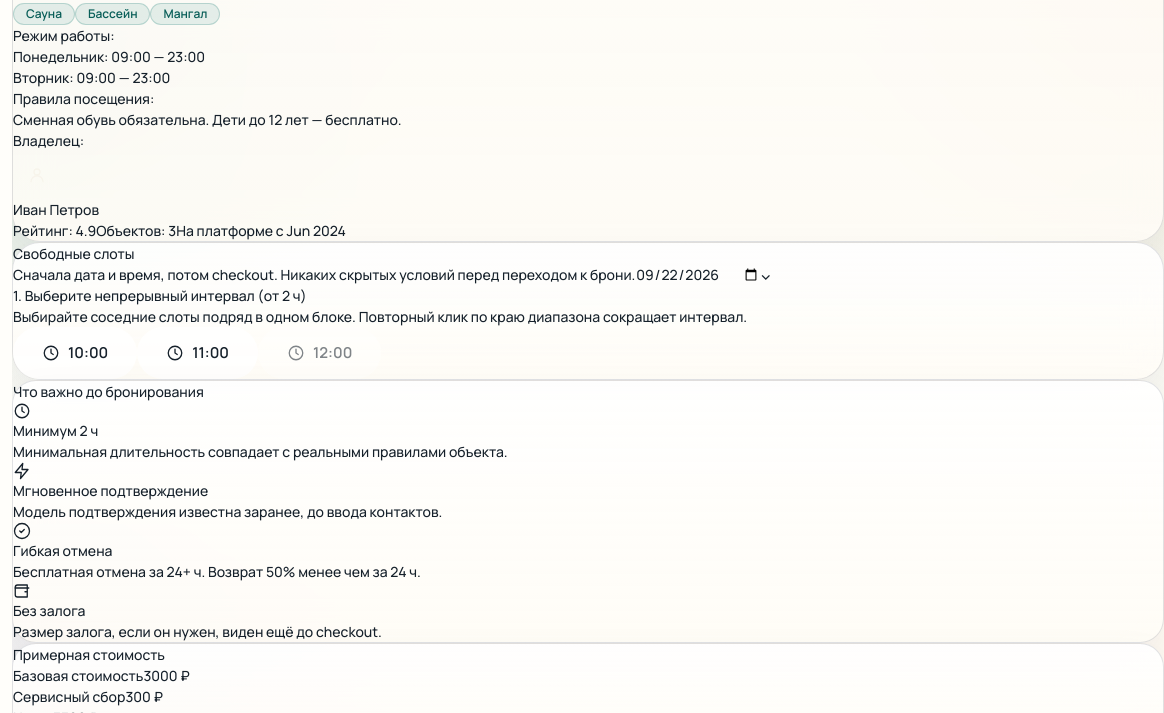
it: BathhouseDetail › selects a continuous range in one block without duration buttons
(page scrolled)
Click the button "10:00" at (75, 353), box [13,327,137,379]
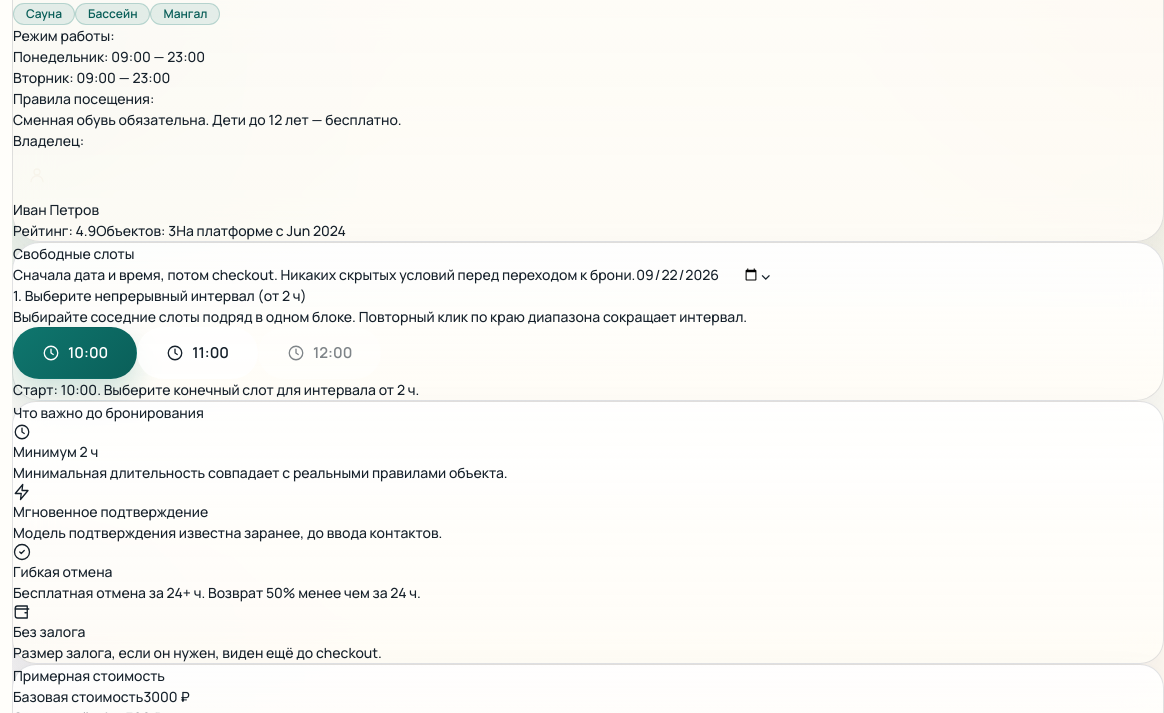
Click the button "11:00" at (198, 353), box [137,327,258,379]
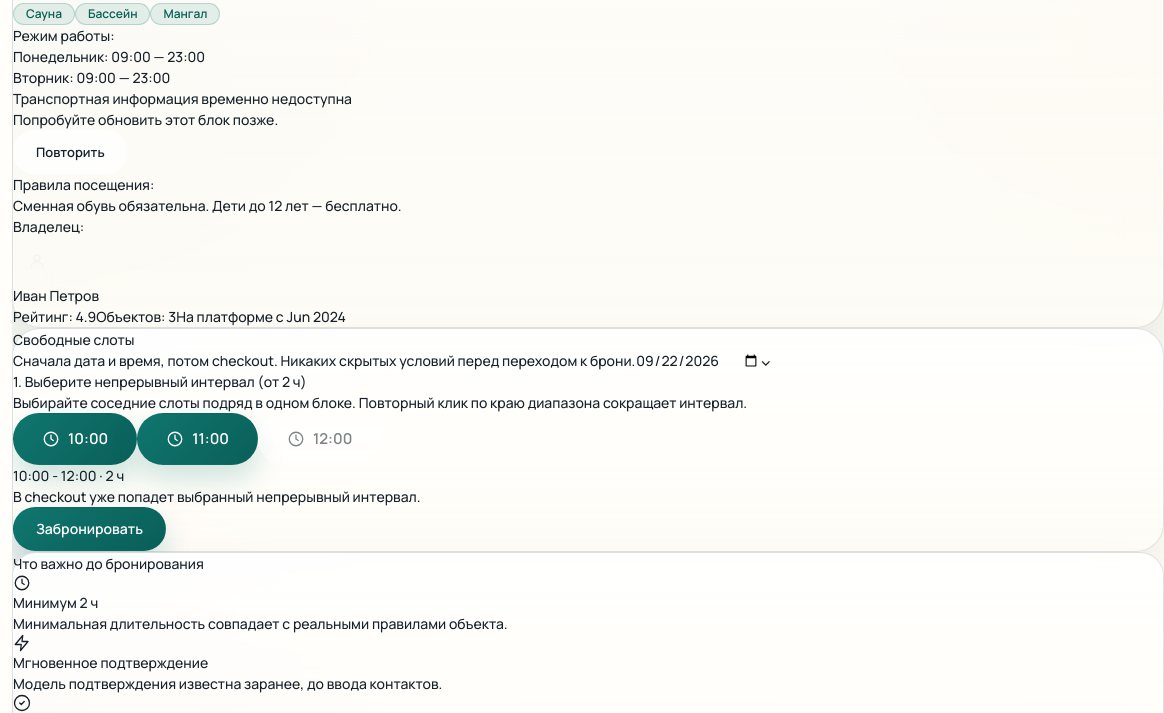
Now the text "10:00 - 12:00 · 2 ч" is shown, box [13,466,124,485]
Now the button "Забронировать" is enabled, box [13,507,166,551]
